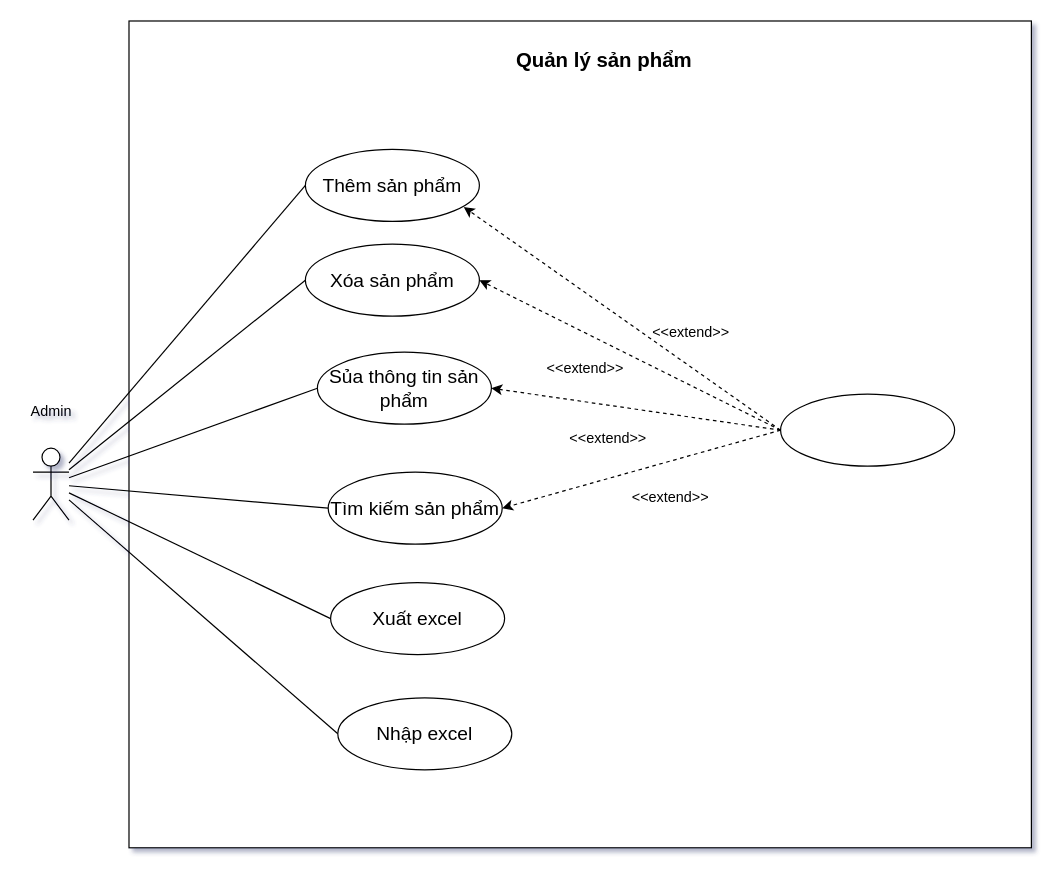
The diagram is 1060 pixels wide and 876 high, and some of its shapes have lost their labels. The shapes that lost their labels are listed below. From the top down, each one's centre as x and y in pixels, then its label:
At (x=867, y=429): "Xem thông tin sản phẩm".
At (x=50, y=483): "Actor".
